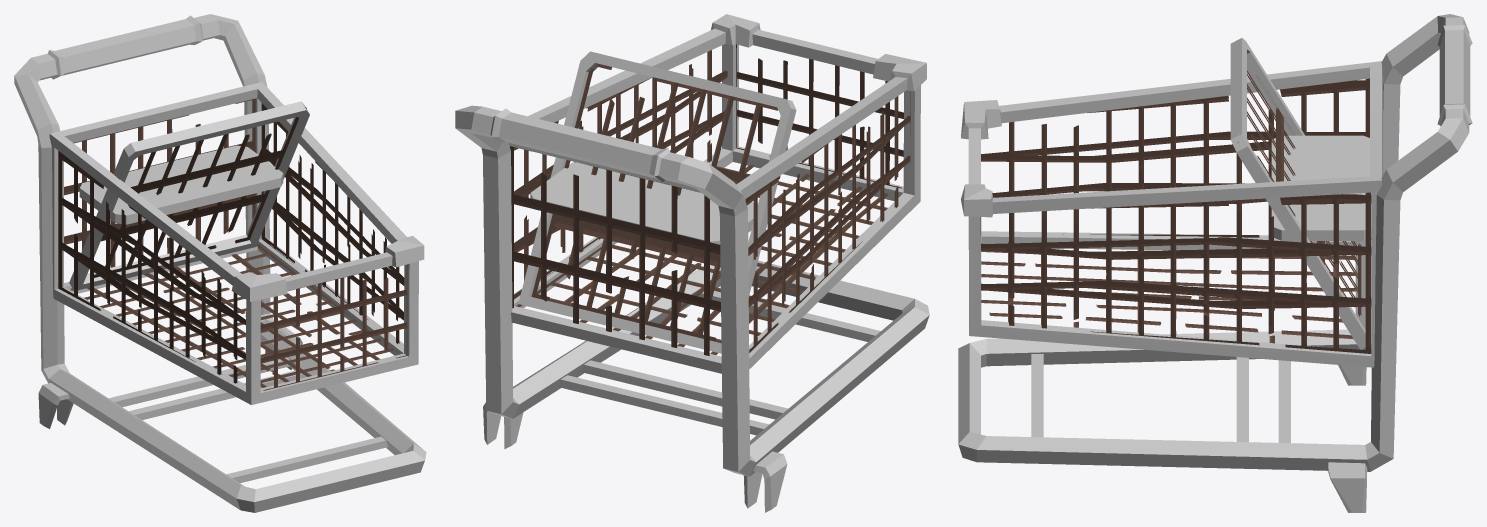
The model's file is SM_Prop_ShoppingCart_01.obj.
3 views of the same model, side by side, from view 1: azimuth 30°, elevation 25°; view 2: azimuth 150°, elevation 25°; view 3: azimuth 270°, elevation 25° (orthographic). The views are drawn at different scales.
Visible parts, largest first — view 1: SM_Prop_ShoppingCart_01_1, SM_Prop_ShoppingCart_01_0; view 2: SM_Prop_ShoppingCart_01_1, SM_Prop_ShoppingCart_01_0; view 3: SM_Prop_ShoppingCart_01_1, SM_Prop_ShoppingCart_01_0.
Boxes of the visible parts, bbox=[...] form: SM_Prop_ShoppingCart_01_1: bbox=[14, 14, 426, 512]; SM_Prop_ShoppingCart_01_0: bbox=[58, 98, 407, 390]; SM_Prop_ShoppingCart_01_1: bbox=[455, 14, 929, 512]; SM_Prop_ShoppingCart_01_0: bbox=[510, 44, 910, 355]; SM_Prop_ShoppingCart_01_1: bbox=[958, 14, 1472, 512]; SM_Prop_ShoppingCart_01_0: bbox=[980, 70, 1371, 353].
Bounding box in the file's own units: 0.8761 × 1.11 × 1.36.
